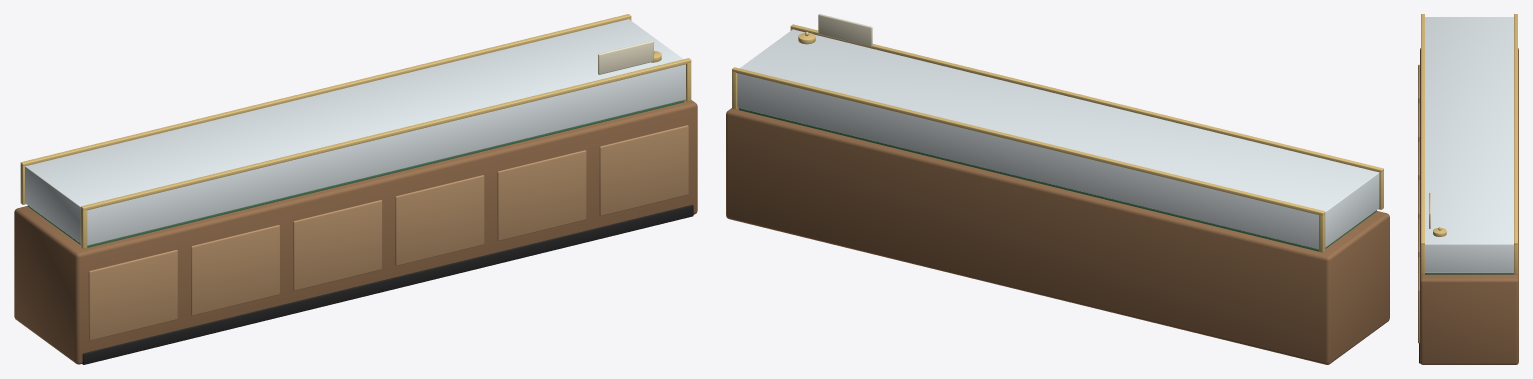
Rendered from guncase.glb.
The picture shows the model from 3 angles, left to right: view 1: azimuth 30°, elevation 25°; view 2: azimuth 150°, elevation 25°; view 3: azimuth 270°, elevation 25°; orthographic projection. The views are drawn at different scales.
Visible parts, largest first — view 1: glass, base, kick, panel2, panel5, panel0, panel3, panel4, panel1, rimtop1, rimtop-1, felt (+1 smaller); view 2: base, glass, rimtop-1, rimtop1, felt, price; view 3: glass, base, rimtop1, rimtop-1, felt, panel5, post1-1, post11, bell.
Boxes of the visible parts, <box> form: glass: <box>25,19,685,245</box>; base: <box>14,100,697,364</box>; kick: <box>82,205,693,364</box>; panel2: <box>293,200,382,290</box>; panel5: <box>599,125,688,216</box>; panel0: <box>88,250,177,340</box>; panel3: <box>395,175,484,265</box>; panel4: <box>497,150,586,240</box>; panel1: <box>191,225,279,315</box>; rimtop1: <box>80,58,691,210</box>; rimtop-1: <box>20,14,631,166</box>; felt: <box>27,100,684,247</box>; base: <box>726,108,1389,364</box>; glass: <box>737,29,1379,249</box>; rimtop-1: <box>732,67,1325,215</box>; rimtop1: <box>790,24,1383,172</box>; felt: <box>739,108,1376,251</box>; price: <box>818,14,872,46</box>; glass: <box>1425,17,1513,272</box>; base: <box>1420,48,1518,364</box>; rimtop1: <box>1421,14,1424,244</box>; rimtop-1: <box>1514,14,1517,244</box>; felt: <box>1425,273,1513,274</box>; panel5: <box>1418,257,1419,343</box>; post1-1: <box>1514,244,1517,274</box>; post11: <box>1421,244,1424,274</box>; bell: <box>1433,228,1446,236</box>.
Size of the model in its own units: 5.6 by 1.54 by 1.02.
